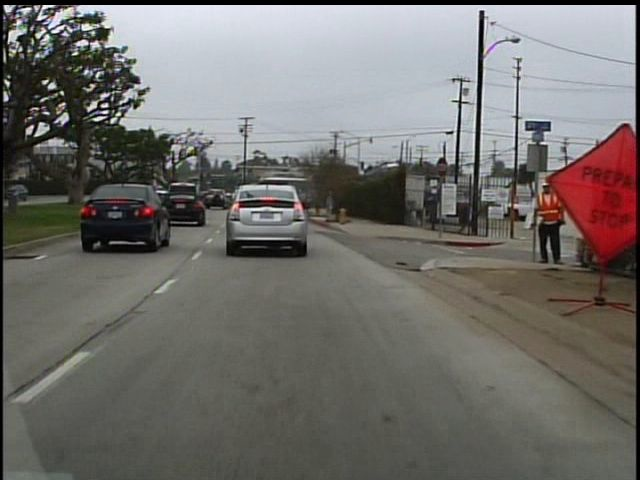person: (524, 190, 560, 267)
